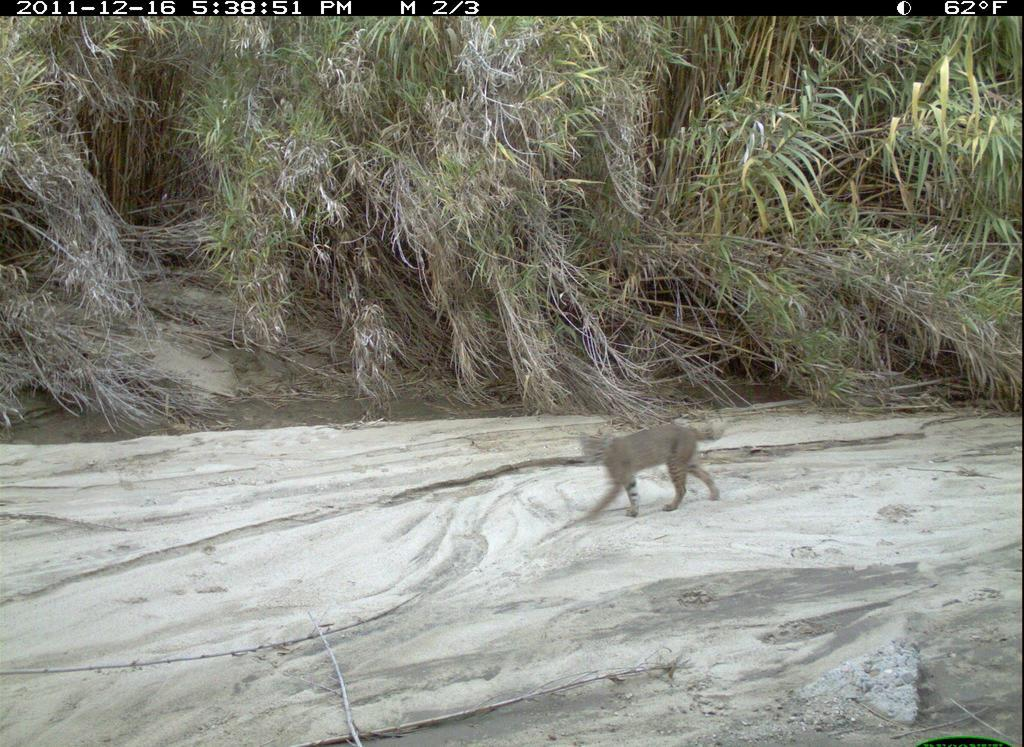bobcat: (560, 405, 738, 537)
